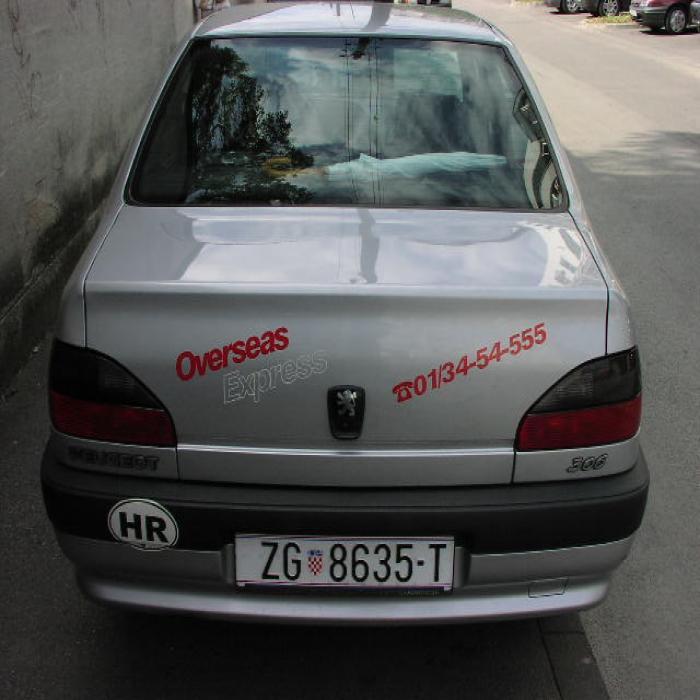number_plate: (233, 535, 451, 585)
